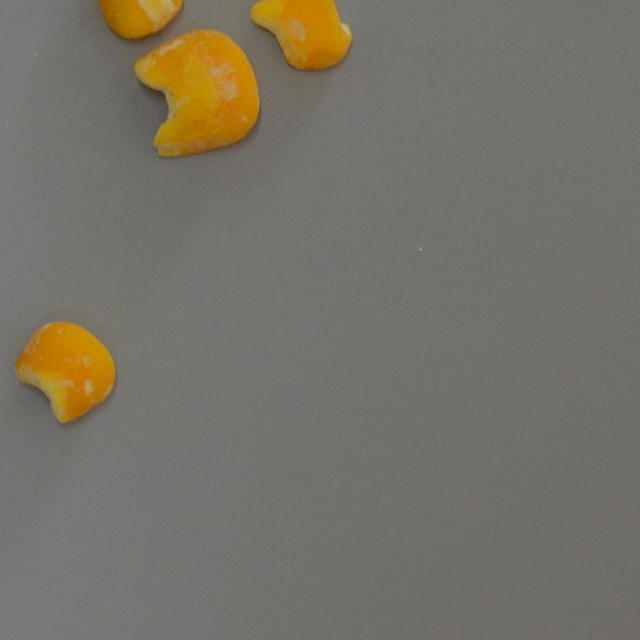dañado: (10, 316, 121, 426), (247, 0, 354, 74), (84, 0, 185, 42)
punto_negro: (127, 26, 265, 163)
